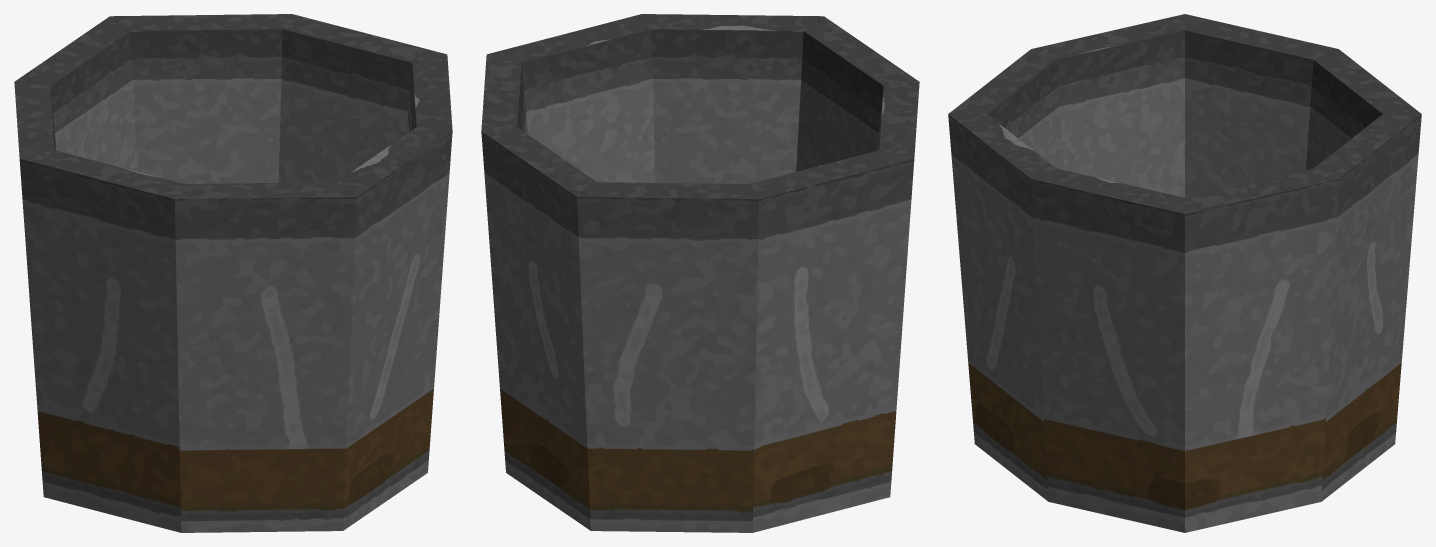
Rendered from drink_whiskey.fbx.
3 views of the same model, side by side, from view 1: azimuth 30°, elevation 25°; view 2: azimuth 150°, elevation 25°; view 3: azimuth 270°, elevation 25° (orthographic). The views are drawn at different scales.
Visible parts, largest first — view 1: Cube; view 2: Cube; view 3: Cube.
Part boxes in pixels (x1,y1,x2,y2): Cube: (14,14,452,532); Cube: (481,14,919,532); Cube: (948,14,1421,532).
Bounding box in the file's own units: 200 × 154 × 200.
